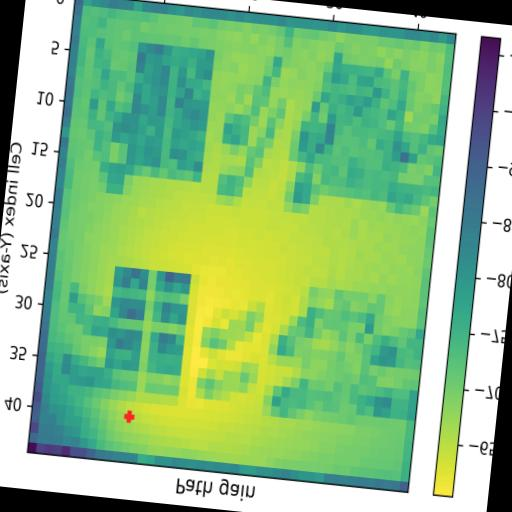Concrete: (296, 288, 387, 428)
Glass: (101, 266, 192, 407)
Metal: (311, 60, 410, 204)
Wood: (124, 42, 216, 183)
